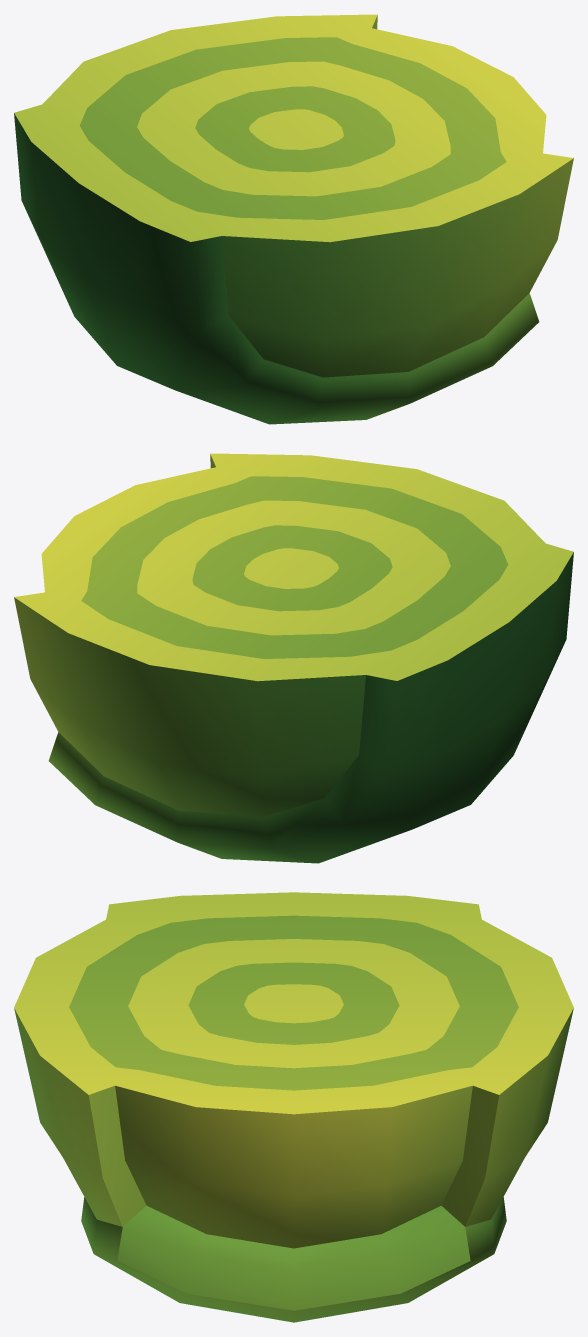
The model's file is Cabbage_Slice_01.glb.
The picture shows the model from 3 angles, top to bottom: view 1: azimuth 30°, elevation 25°; view 2: azimuth 150°, elevation 25°; view 3: azimuth 270°, elevation 25°; orthographic projection. The views are drawn at different scales.
Visible parts, largest first — view 1: Cabbage_Slice_01; view 2: Cabbage_Slice_01; view 3: Cabbage_Slice_01.
Part boxes in pixels (x1,y1,x2,y2): Cabbage_Slice_01: [14, 14, 573, 424]; Cabbage_Slice_01: [14, 453, 573, 863]; Cabbage_Slice_01: [14, 892, 573, 1322].
Size of the model in its own units: 0.4769 by 0.2816 by 0.5084.
1 material, 1 textured.
